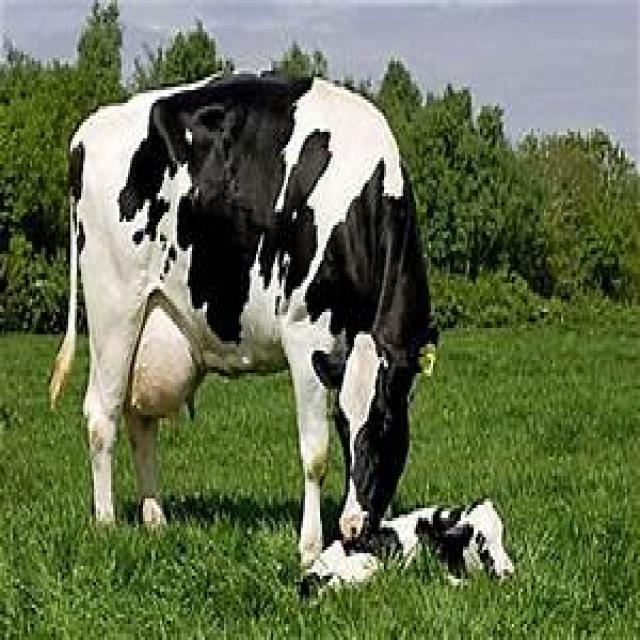cow: (50, 75, 435, 564), (306, 499, 514, 585)
